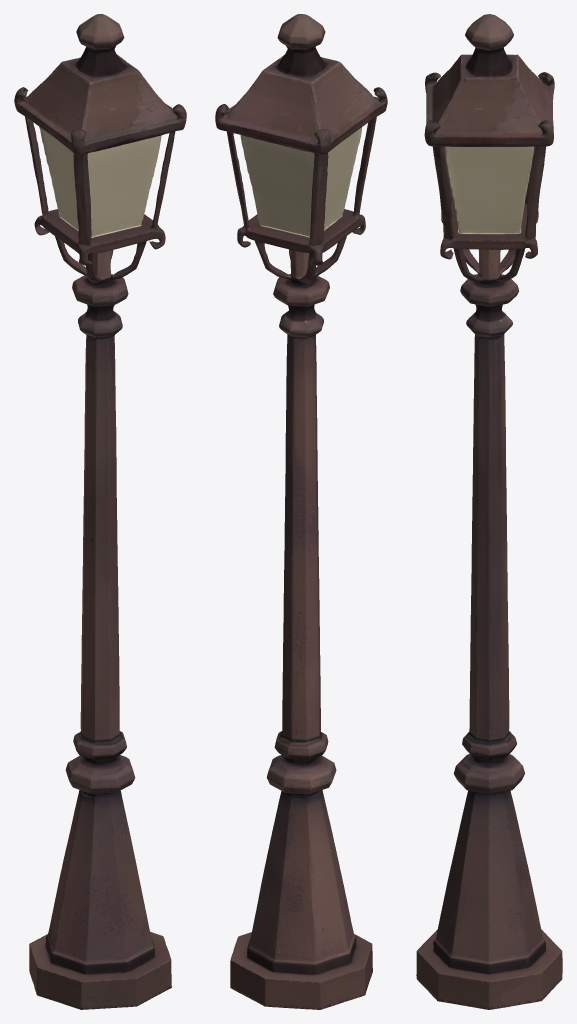
The model's file is An_old_fashioned_tall_cast_iron_streetlamp_with_a_Prism_30_46804703.glb.
3 renders of one model, left to right at view 1: azimuth 30°, elevation 25°; view 2: azimuth 150°, elevation 25°; view 3: azimuth 270°, elevation 25°, orthographic.
Visible parts, largest first — view 1: tripo_node_ddefa3a8-d945-43fb-bc7a-b10d4a752479; view 2: tripo_node_ddefa3a8-d945-43fb-bc7a-b10d4a752479; view 3: tripo_node_ddefa3a8-d945-43fb-bc7a-b10d4a752479.
Boxes of the visible parts, x1,y1,x2,y2 form: tripo_node_ddefa3a8-d945-43fb-bc7a-b10d4a752479: (14,14,186,1009); tripo_node_ddefa3a8-d945-43fb-bc7a-b10d4a752479: (215,14,387,1009); tripo_node_ddefa3a8-d945-43fb-bc7a-b10d4a752479: (416,14,562,1009).
Bounding box in the file's own units: 0.4131 × 3 × 0.4123.
1 material, 1 textured.
